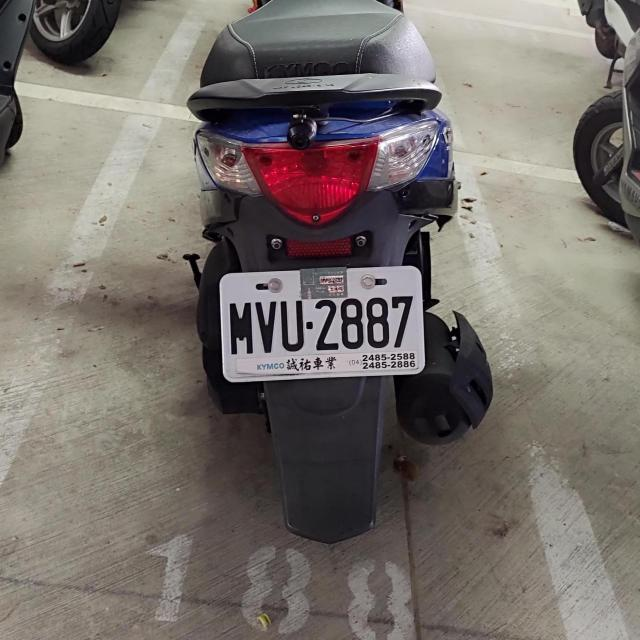W: (218, 265, 424, 379)
